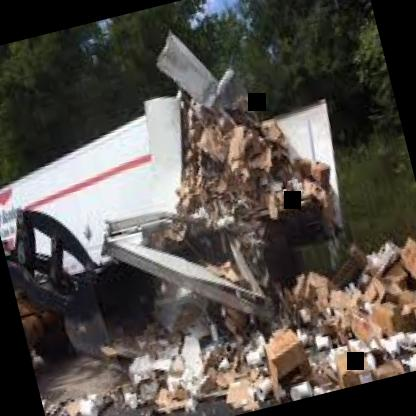accident: (0, 0, 407, 405)
